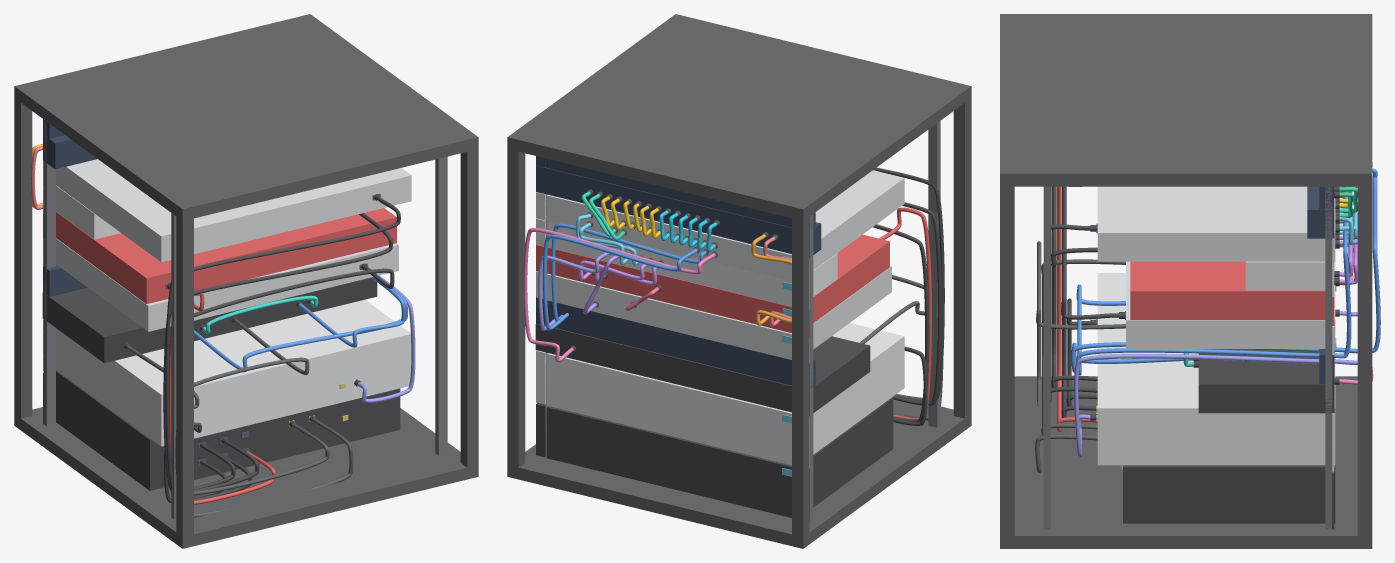
File: rack-scene.glb
3 renders of one model, left to right at view 1: azimuth 30°, elevation 25°; view 2: azimuth 150°, elevation 25°; view 3: azimuth 270°, elevation 25°, orthographic. The views are drawn at different scales.
Parts seen in each view (by area): view 1: RackRoofFrame, Device_nas-storage-01, RackBaseFrame, Device_sw-poe-core-01, Device_ups-core-01, Device_fw-ngfw-01, Device_carrier-compute-u5, Device_udm-pro-sec-01, RackCornerPost_RR, RackCornerPost_RL, RackCornerPost_FL, RackRail_RR (+15 smaller); view 2: RackRoofFrame, Device_nas-storage-01, Device_ups-core-01, RackBaseFrame, Device_carrier-compute-u5, Device_sw-poe-core-01, Device_udm-pro-sec-01, Device_fw-ngfw-01, Device_brush-portal-u6, RackCornerPost_FR, RackCornerPost_RL, RackCornerPost_FL (+15 smaller); view 3: RackRoofFrame, RackBaseFrame, Device_nas-storage-01, Device_sw-poe-core-01, Device_ups-core-01, Device_fw-ngfw-01, Device_carrier-compute-u5, Device_udm-pro-sec-01, RackCornerPost_FR, RackCornerPost_RR, RackRail_RR, RackRail_FR (+12 smaller).
Part boxes in pixels (<box>): RackRoofFrame: <box>14,14,478,220</box>; Device_nas-storage-01: <box>56,299,411,446</box>; RackBaseFrame: <box>14,407,478,548</box>; Device_sw-poe-core-01: <box>56,159,411,262</box>; Device_ups-core-01: <box>56,370,400,490</box>; Device_fw-ngfw-01: <box>56,208,396,303</box>; Device_carrier-compute-u5: <box>42,277,377,363</box>; Device_udm-pro-sec-01: <box>56,238,398,331</box>; RackCornerPost_RR: <box>460,132,478,476</box>; RackCornerPost_RL: <box>176,202,193,548</box>; RackCornerPost_FL: <box>14,83,32,430</box>; RackRail_RR: <box>435,156,447,455</box>; RackRoofFrame: <box>508,15,971,220</box>; Device_nas-storage-01: <box>546,323,904,465</box>; Device_ups-core-01: <box>546,397,893,517</box>; RackBaseFrame: <box>507,399,971,548</box>; Device_carrier-compute-u5: <box>535,323,870,412</box>; Device_sw-poe-core-01: <box>546,170,904,280</box>; Device_udm-pro-sec-01: <box>546,266,891,359</box>; Device_fw-ngfw-01: <box>547,234,889,332</box>; Device_brush-portal-u6: <box>545,300,815,388</box>; RackCornerPost_FR: <box>507,134,525,479</box>; RackCornerPost_RL: <box>953,84,971,430</box>; RackCornerPost_FL: <box>792,202,809,548</box>; RackRoofFrame: <box>1000,14,1372,186</box>; RackBaseFrame: <box>1000,376,1371,548</box>; Device_nas-storage-01: <box>1097,273,1335,465</box>; Device_sw-poe-core-01: <box>1097,186,1335,261</box>; Device_ups-core-01: <box>1123,465,1335,523</box>; Device_fw-ngfw-01: <box>1130,261,1325,319</box>; Device_carrier-compute-u5: <box>1198,349,1334,413</box>; Device_udm-pro-sec-01: <box>1126,261,1335,348</box>; RackCornerPost_FR: <box>1357,167,1372,548</box>; RackCornerPost_RR: <box>1000,167,1014,548</box>; RackRail_RR: <box>1043,186,1050,529</box>; RackRail_FR: <box>1325,186,1332,529</box>.
Bounding box in the file's own units: 0.5226 × 0.5734 × 0.5269.
